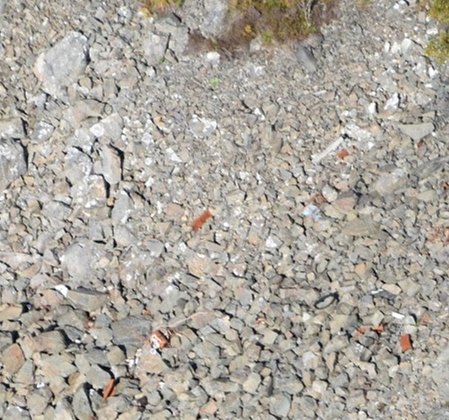white_in_green: (123, 313, 190, 370), (75, 358, 142, 415), (167, 191, 233, 248), (372, 316, 438, 373), (295, 273, 361, 330), (307, 132, 348, 171)
